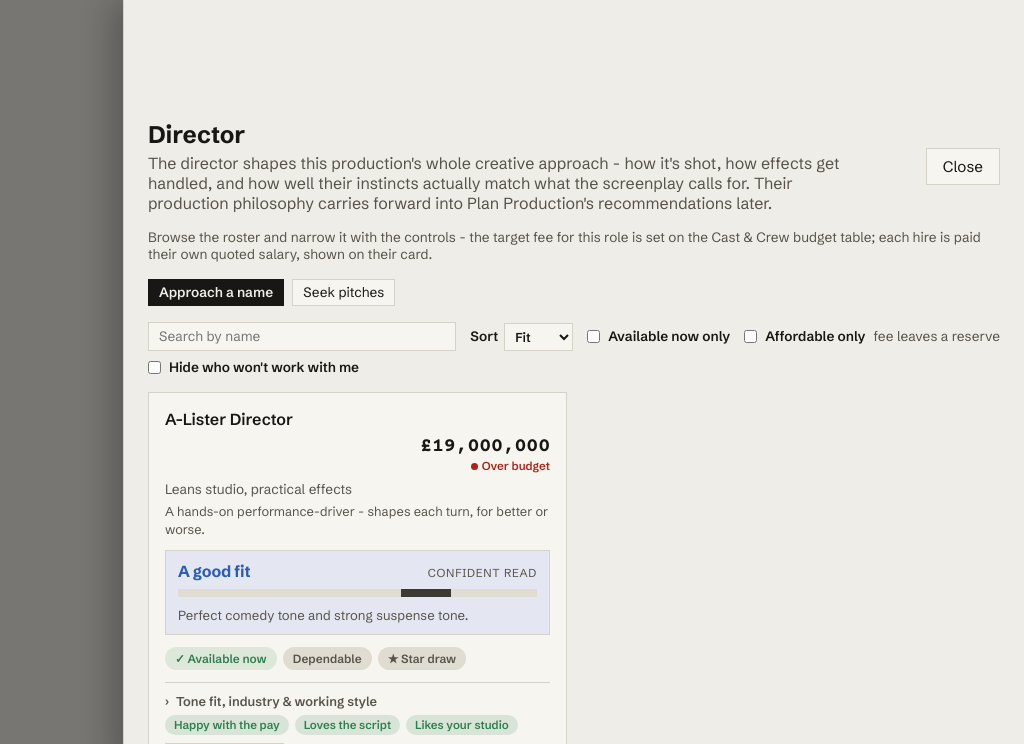
Test: RoleHiringDrawer - director interest (Casting Appeal Rework) › attaches the same director once studio prestige clears the gate
The width and height of the screenshot is (1024, 744).
Click the text "A-Lister Director" at (229, 419), box 165,409 -> 293,429
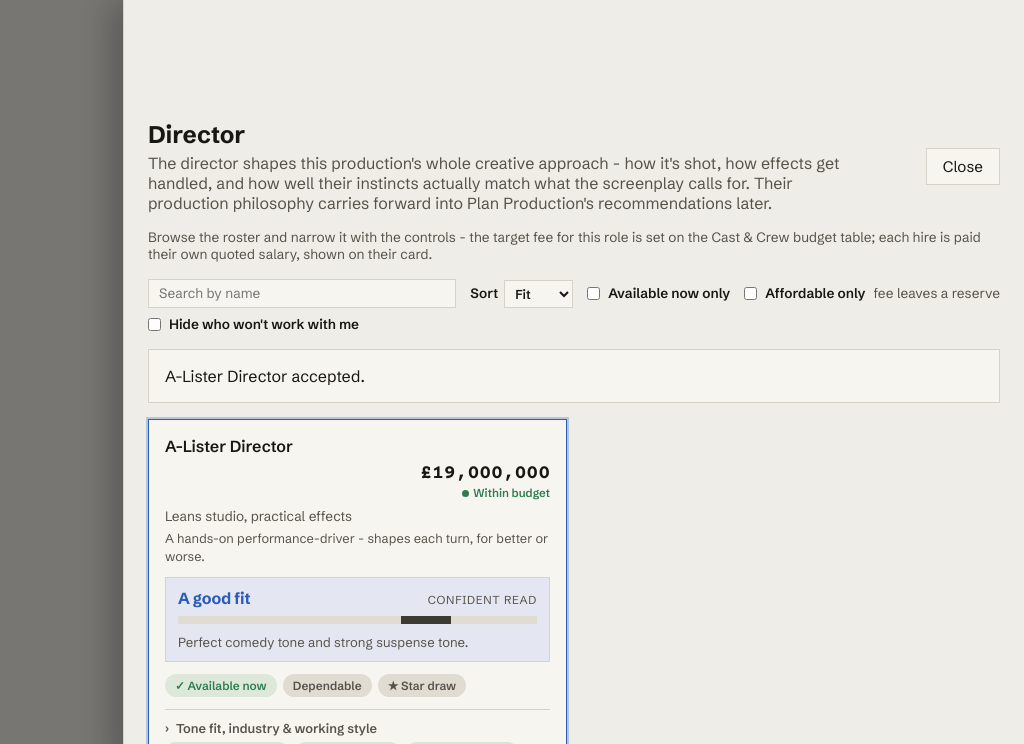
Expected: the text "A-Lister Director accepted." is shown, 148,349 -> 1000,403
